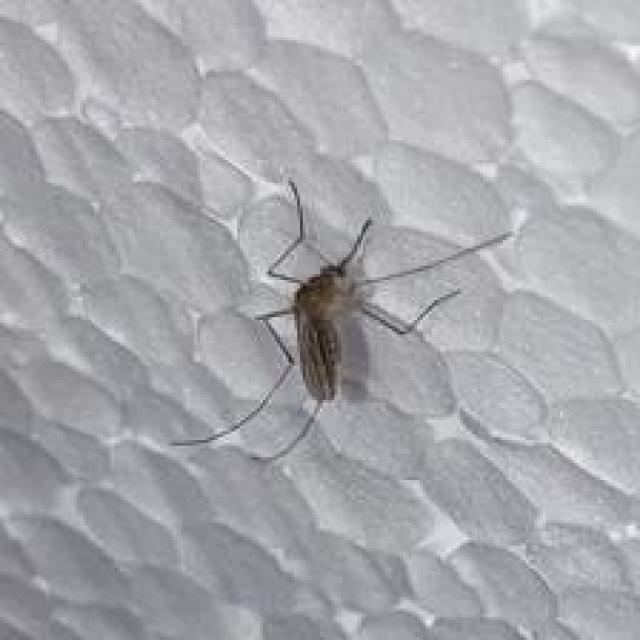Culex: (169, 176, 517, 464)
